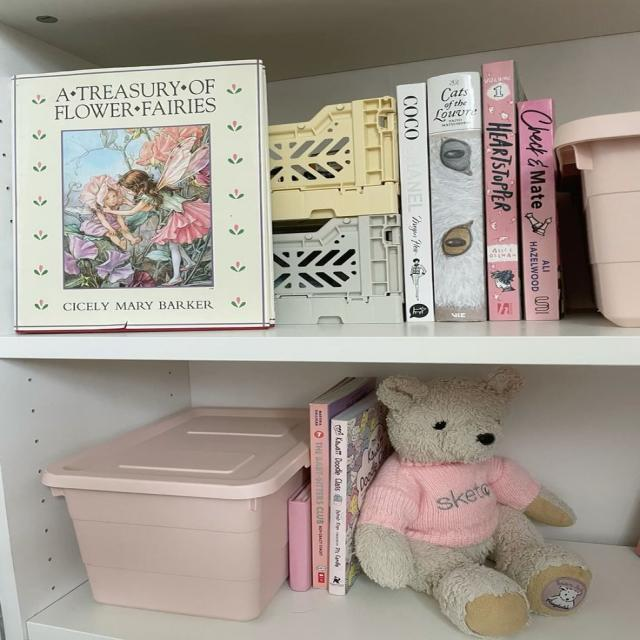book: (427, 72, 487, 321), (483, 61, 521, 320), (518, 99, 560, 320), (397, 83, 433, 322), (310, 404, 329, 589), (333, 419, 345, 596)
